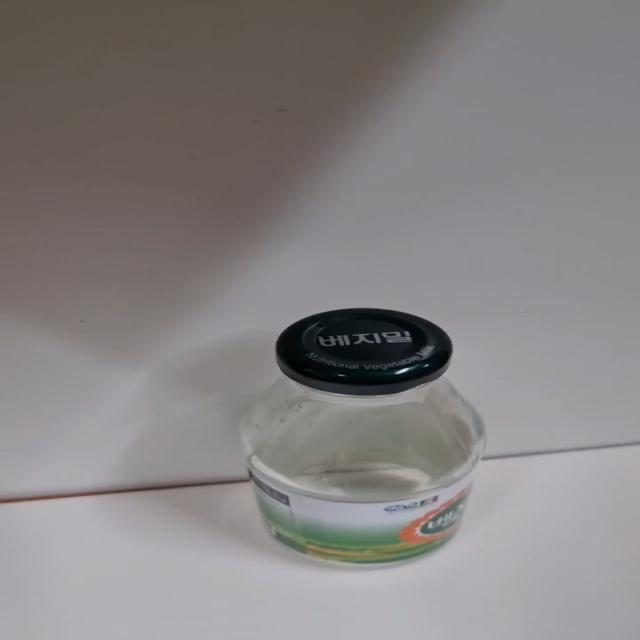Glass: (246, 303, 482, 568)
